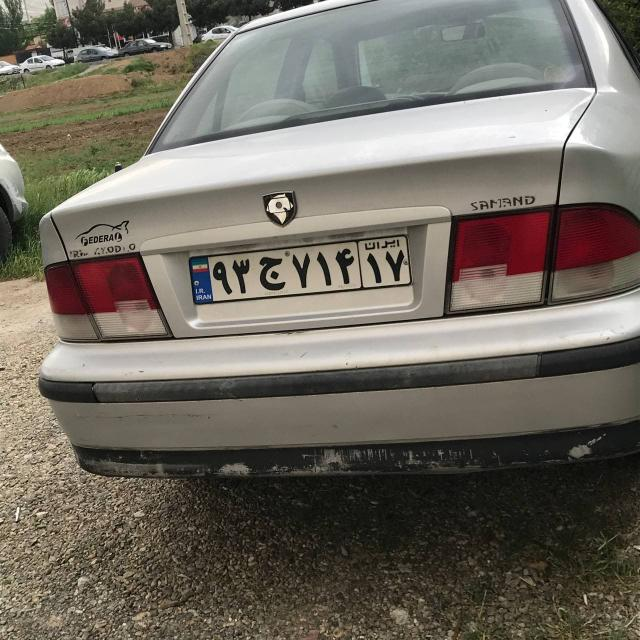Plates: (189, 235, 411, 304)
